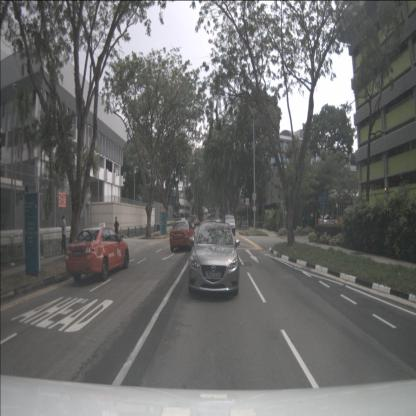human-pedestrian-adult: (61, 215, 66, 256), (114, 216, 119, 243), (239, 218, 242, 230)
vehicle-car: (188, 221, 240, 296), (66, 227, 130, 281), (170, 220, 196, 252), (223, 214, 236, 235), (312, 210, 329, 226), (194, 218, 200, 226)
